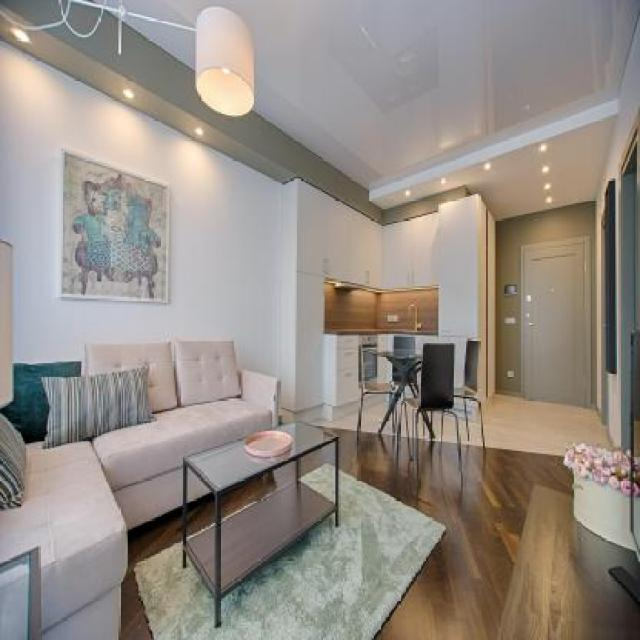Floor: (306, 393, 640, 640), (119, 508, 182, 640), (219, 461, 296, 520), (187, 493, 216, 538), (300, 442, 336, 477)
